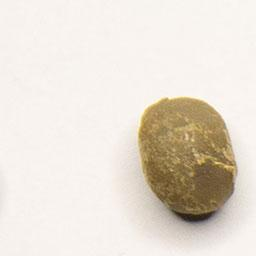peaberry: (133, 92, 243, 225)
